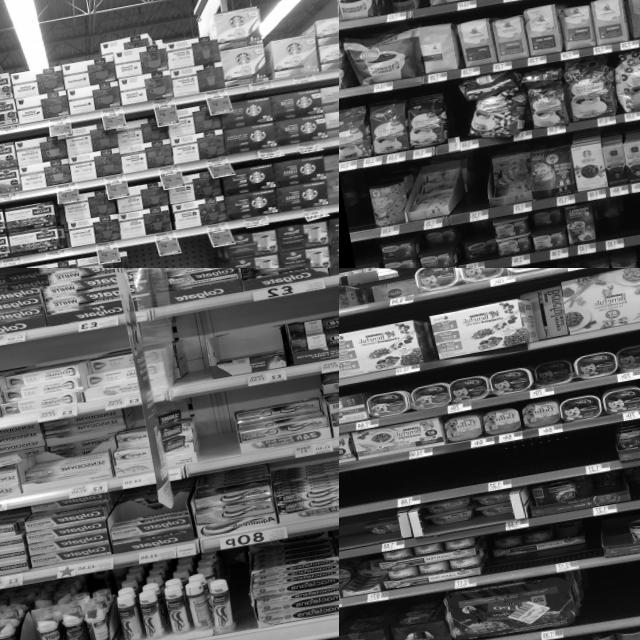100- O.O.S: (507, 426, 618, 486), (416, 443, 512, 502), (339, 459, 421, 527), (588, 551, 640, 631), (191, 401, 239, 472), (225, 571, 258, 640), (178, 333, 214, 393), (440, 86, 470, 152), (127, 241, 189, 268), (462, 159, 489, 219), (344, 187, 374, 240), (183, 234, 228, 268), (188, 334, 210, 379), (625, 188, 640, 244)
